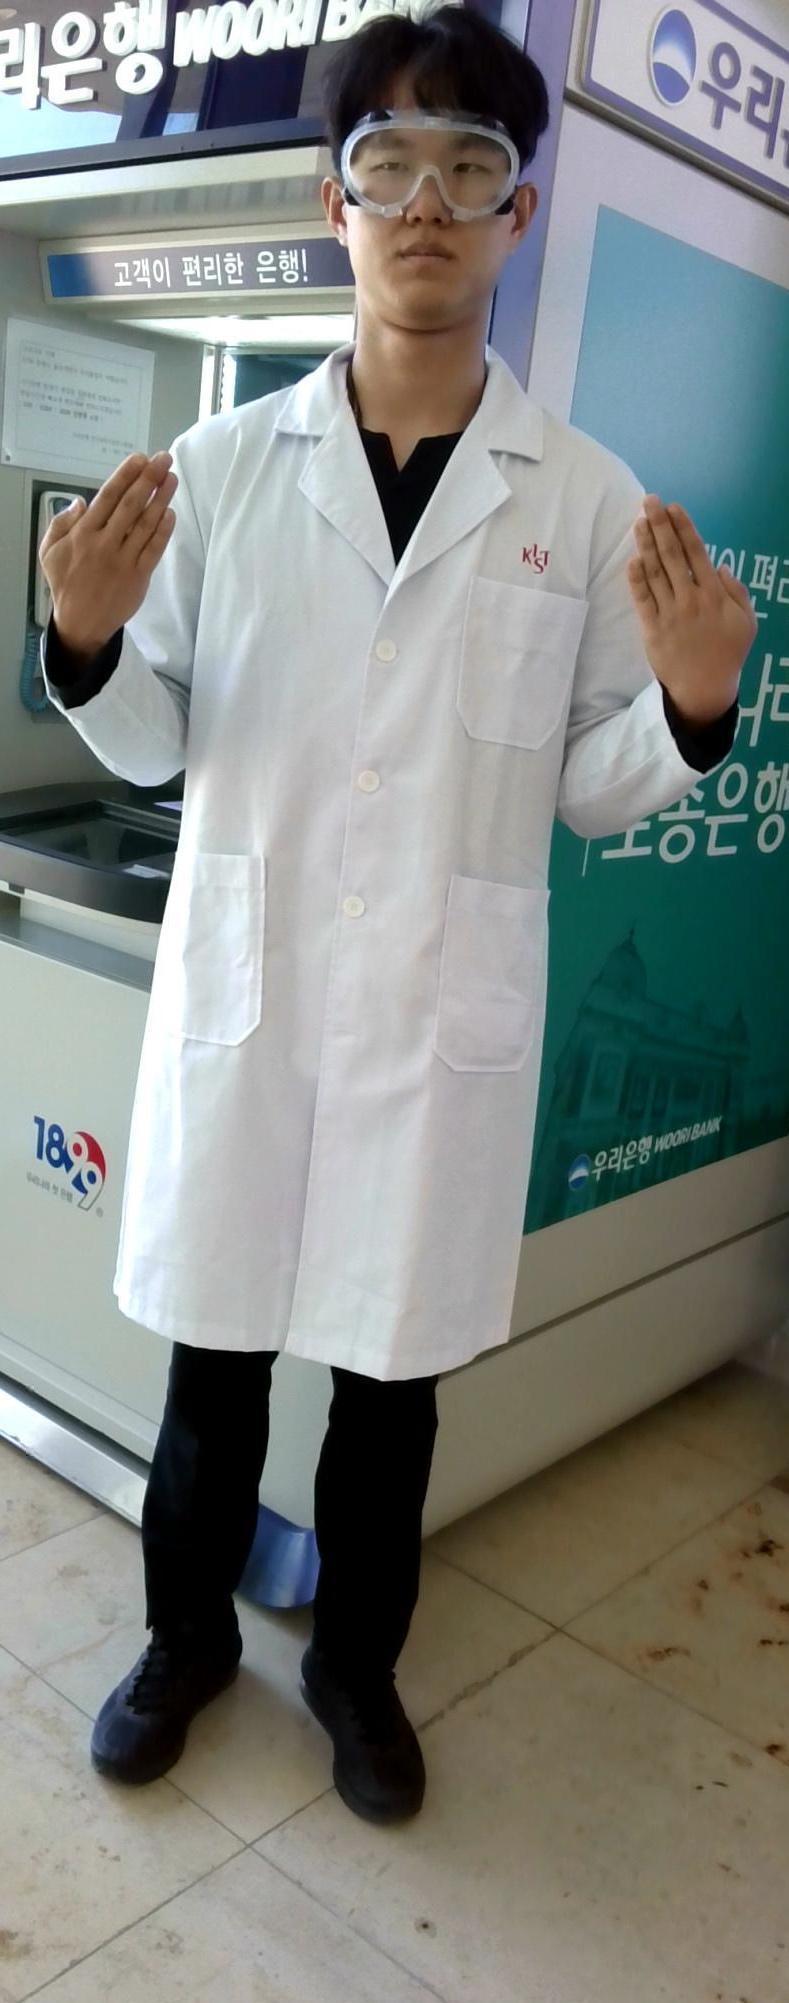lab_coat: (120, 425, 596, 1336)
